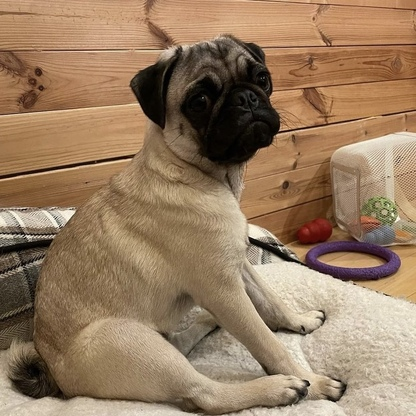Pug: (4, 28, 355, 416)
